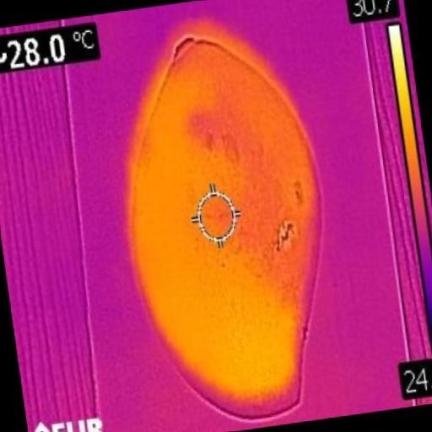mango: (130, 37, 320, 417)
